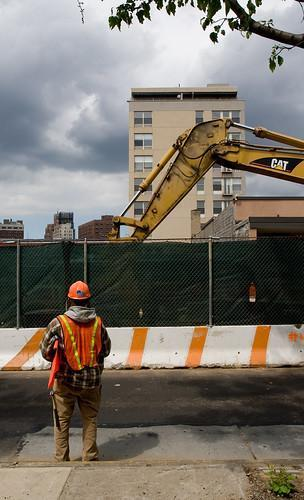vest: (54, 308, 103, 371)
